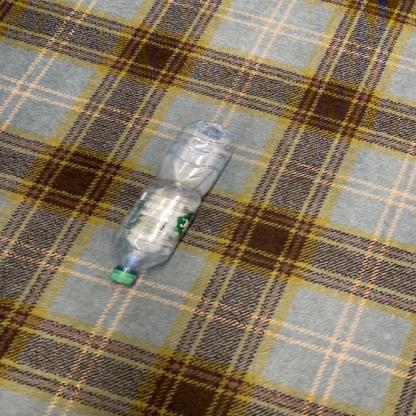trash: (108, 121, 236, 288)
